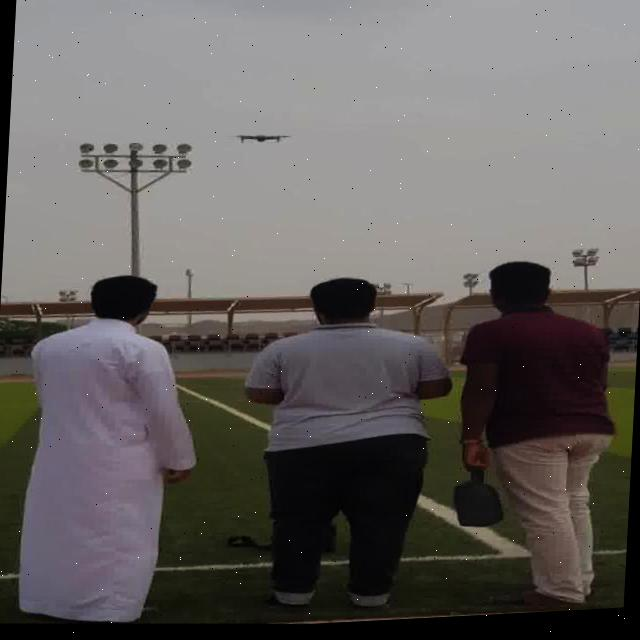drone: (228, 129, 304, 152)
